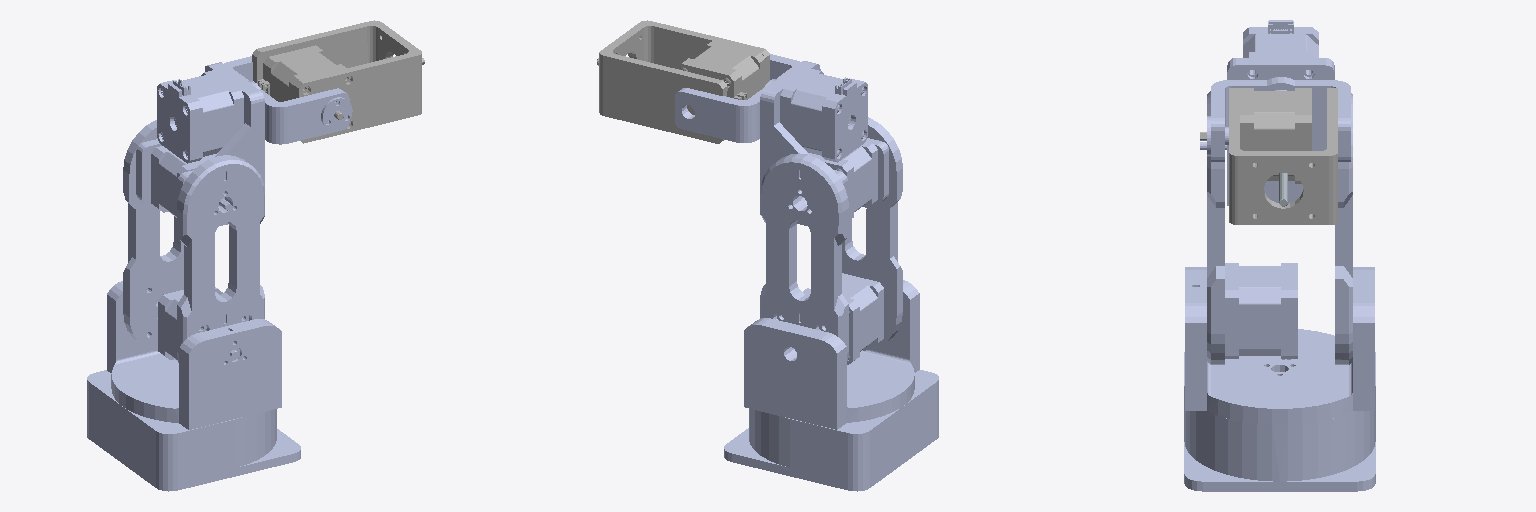
robot.urdf — RobotAssembly:
<?xml version="1.0" encoding="utf-8"?>
<!-- This URDF was automatically created by SolidWorks to URDF Exporter! Originally created by Stephen Brawner (brawner@gmail.com) 
     Commit Version: 1.6.0-4-g7f85cfe  Build Version: 1.6.7995.38578
     For more information, please see http://wiki.ros.org/sw_urdf_exporter -->
<robot
  name="RobotAssembly">
  <link
    name="base_Frame">
    <inertial>
      <origin
        xyz="-0.00392828513304835 -5.27957094589629E-18 0.0197084096565698"
        rpy="0 0 0" />
      <mass
        value="0.398803913878024" />
      <inertia
        ixx="0.000383634062492965"
        ixy="-5.59526705517806E-20"
        ixz="5.15665640521899E-06"
        iyy="0.000377479950170546"
        iyz="-3.26597973458209E-20"
        izz="0.000652663421267234" />
    </inertial>
    <visual>
      <origin
        xyz="0 0 0"
        rpy="0 0 0" />
      <geometry>
        <mesh
          filename="package://RobotAssembly/meshes/base_Frame.STL" />
      </geometry>
      <material
        name="">
        <color
          rgba="0.792156862745098 0.819607843137255 0.933333333333333 1" />
      </material>
    </visual>
    <collision>
      <origin
        xyz="0 0 0"
        rpy="0 0 0" />
      <geometry>
        <mesh
          filename="package://RobotAssembly/meshes/base_Frame.STL" />
      </geometry>
    </collision>
  </link>
  <link
    name="BaseLink">
    <inertial>
      <origin
        xyz="-0.00392828513304835 -5.27957094589629E-18 0.0197084096565698"
        rpy="0 0 0" />
      <mass
        value="0.398803913878024" />
      <inertia
        ixx="0.000383634062492965"
        ixy="-5.54350994038197E-20"
        ixz="5.15665640521899E-06"
        iyy="0.000377479950170546"
        iyz="-3.26192607764251E-20"
        izz="0.000652663421267234" />
    </inertial>
    <visual>
      <origin
        xyz="0 0 0"
        rpy="0 0 0" />
      <geometry>
        <mesh
          filename="package://RobotAssembly/meshes/BaseLink.STL" />
      </geometry>
      <material
        name="">
        <color
          rgba="0.792156862745098 0.819607843137255 0.933333333333333 1" />
      </material>
    </visual>
    <collision>
      <origin
        xyz="0 0 0"
        rpy="0 0 0" />
      <geometry>
        <mesh
          filename="package://RobotAssembly/meshes/BaseLink.STL" />
      </geometry>
    </collision>
  </link>
  <joint
    name="BaseLinkJoint"
    type="fixed">
    <origin
      xyz="0 0 0"
      rpy="0 0 0" />
    <parent
      link="base_Frame" />
    <child
      link="BaseLink" />
    <axis
      xyz="0 0 0" />
  </joint>
  <link
    name="J1_Link">
    <inertial>
      <origin
        xyz="5.19780395945533E-17 -0.00220626005450383 0.0200689923926743"
        rpy="0 0 0" />
      <mass
        value="0.178308396338367" />
      <inertia
        ixx="0.000290696734206688"
        ixy="-5.58317885264175E-11"
        ixz="4.54620357960477E-20"
        iyy="0.000146889533548349"
        iyz="-3.34224178976832E-07"
        izz="0.000331186535139949" />
    </inertial>
    <visual>
      <origin
        xyz="0 0 0"
        rpy="0 0 0" />
      <geometry>
        <mesh
          filename="package://RobotAssembly/meshes/J1_Link.STL" />
      </geometry>
      <material
        name="">
        <color
          rgba="0.792156862745098 0.819607843137255 0.933333333333333 1" />
      </material>
    </visual>
    <collision>
      <origin
        xyz="0 0 0"
        rpy="0 0 0" />
      <geometry>
        <mesh
          filename="package://RobotAssembly/meshes/J1_Link.STL" />
      </geometry>
    </collision>
  </link>
  <joint
    name="J1"
    type="revolute">
    <origin
      xyz="0 0 0.04"
      rpy="0 0 0" />
    <parent
      link="BaseLink" />
    <child
      link="J1_Link" />
    <axis
      xyz="0 0 -1" />
    <limit
      lower="-6.2856"
      upper="6.2856"
      effort="0"
      velocity="0" />
  </joint>
  <link
    name="J2_Link">
    <inertial>
      <origin
        xyz="0.0341625857117514 4.81563057101389E-08 -0.00348814488795987"
        rpy="0 0 0" />
      <mass
        value="0.20493853476852" />
      <inertia
        ixx="5.25009121788374E-05"
        ixy="-2.51992987676672E-11"
        ixz="1.05086162925748E-08"
        iyy="0.000293309909415094"
        iyz="3.0817287744597E-10"
        izz="0.000339163519667511" />
    </inertial>
    <visual>
      <origin
        xyz="0 0 0"
        rpy="0 0 0" />
      <geometry>
        <mesh
          filename="package://RobotAssembly/meshes/J2_Link.STL" />
      </geometry>
      <material
        name="">
        <color
          rgba="0.792156862745098 0.819607843137255 0.933333333333333 1" />
      </material>
    </visual>
    <collision>
      <origin
        xyz="0 0 0"
        rpy="0 0 0" />
      <geometry>
        <mesh
          filename="package://RobotAssembly/meshes/J2_Link.STL" />
      </geometry>
    </collision>
  </link>
  <joint
    name="J2"
    type="revolute">
    <origin
      xyz="0 0 0.0450235133971798"
      rpy="1.5707963267949 -1.57001254680866 -3.14159265358979" />
    <parent
      link="J1_Link" />
    <child
      link="J2_Link" />
    <axis
      xyz="0 0 1" />
    <limit
      lower="-6.2856"
      upper="6.2856"
      effort="0"
      velocity="0" />
  </joint>
  <link
    name="J3_Link">
    <inertial>
      <origin
        xyz="0.0085983743704942 -0.0192799171048054 -0.0351458907841485"
        rpy="0 0 0" />
      <mass
        value="0.211104401938319" />
      <inertia
        ixx="0.00010201352545001"
        ixy="9.23339515566093E-06"
        ixz="1.28811604797203E-06"
        iyy="7.66727826172985E-05"
        iyz="-9.60803527585616E-07"
        izz="8.84124778948434E-05" />
    </inertial>
    <visual>
      <origin
        xyz="0 0 0"
        rpy="0 0 0" />
      <geometry>
        <mesh
          filename="package://RobotAssembly/meshes/J3_Link.STL" />
      </geometry>
      <material
        name="">
        <color
          rgba="0.792156862745098 0.819607843137255 0.933333333333333 1" />
      </material>
    </visual>
    <collision>
      <origin
        xyz="0 0 0"
        rpy="0 0 0" />
      <geometry>
        <mesh
          filename="package://RobotAssembly/meshes/J3_Link.STL" />
      </geometry>
    </collision>
  </link>
  <joint
    name="J3"
    type="revolute">
    <origin
      xyz="0.0999764866100428 0 0.035"
      rpy="0 0 1.57158010678112" />
    <parent
      link="J2_Link" />
    <child
      link="J3_Link" />
    <axis
      xyz="0 0 1" />
    <limit
      lower="-6.2856"
      upper="6.2856"
      effort="0"
      velocity="0" />
  </joint>
  <link
    name="J4_Link">
    <inertial>
      <origin
        xyz="8.35079161376484E-07 -0.00676193137349457 0.0181683173855942"
        rpy="0 0 0" />
      <mass
        value="0.0521282135415929" />
      <inertia
        ixx="3.7593062578374E-05"
        ixy="1.5052840427318E-09"
        ixz="-1.19434860111226E-09"
        iyy="1.15235892953846E-05"
        iyz="-7.13691998393439E-08"
        izz="3.0795899659119E-05" />
    </inertial>
    <visual>
      <origin
        xyz="0 0 0"
        rpy="0 0 0" />
      <geometry>
        <mesh
          filename="package://RobotAssembly/meshes/J4_Link.STL" />
      </geometry>
      <material
        name="">
        <color
          rgba="0.792156862745098 0.819607843137255 0.933333333333333 1" />
      </material>
    </visual>
    <collision>
      <origin
        xyz="0 0 0"
        rpy="0 0 0" />
      <geometry>
        <mesh
          filename="package://RobotAssembly/meshes/J4_Link.STL" />
      </geometry>
    </collision>
  </link>
  <joint
    name="J4"
    type="revolute">
    <origin
      xyz="0.0399655013979157 -0.0440313376813969 -0.0344999999999999"
      rpy="1.5707963267949 0 1.57001254680867" />
    <parent
      link="J3_Link" />
    <child
      link="J4_Link" />
    <axis
      xyz="0 0 -1" />
    <limit
      lower="-6.2856"
      upper="6.2856"
      effort="0"
      velocity="0" />
  </joint>
  <link
    name="J5_Link">
    <inertial>
      <origin
        xyz="3.94129173741931E-15 -0.0258816481211883 -0.0341794222651043"
        rpy="0 0 0" />
      <mass
        value="0.189700976705942" />
      <inertia
        ixx="0.000100351816110413"
        ixy="-2.82973578130243E-10"
        ixz="2.82973578769169E-10"
        iyy="7.16468415501826E-05"
        iyz="-2.54245342930596E-06"
        izz="8.16276490016628E-05" />
    </inertial>
    <visual>
      <origin
        xyz="0 0 0"
        rpy="0 0 0" />
      <geometry>
        <mesh
          filename="package://RobotAssembly/meshes/J5_Link.STL" />
      </geometry>
      <material
        name="">
        <color
          rgba="0.752941176470588 0.752941176470588 0.752941176470588 1" />
      </material>
    </visual>
    <collision>
      <origin
        xyz="0 0 0"
        rpy="0 0 0" />
      <geometry>
        <mesh
          filename="package://RobotAssembly/meshes/J5_Link.STL" />
      </geometry>
    </collision>
  </link>
  <joint
    name="J5"
    type="revolute">
    <origin
      xyz="0 0.0345 0.0419999999999999"
      rpy="-1.5707963267949 0 0" />
    <parent
      link="J4_Link" />
    <child
      link="J5_Link" />
    <axis
      xyz="0 0 1" />
    <limit
      lower="-6.2856"
      upper="6.2856"
      effort="0"
      velocity="0" />
  </joint>
  <link
    name="J6_Link">
    <inertial>
      <origin
        xyz="2.10273537232242E-06 -4.65350489550461E-06 -0.0298923940103484"
        rpy="0 0 0" />
      <mass
        value="0.00114582999188719" />
      <inertia
        ixx="3.32285500557153E-07"
        ixy="-2.54807966119436E-11"
        ixz="3.07683493859108E-10"
        iyy="3.32330377628855E-07"
        iyz="-6.80925742643999E-10"
        izz="3.54273266881593E-09" />
    </inertial>
    <visual>
      <origin
        xyz="0 0 0"
        rpy="0 0 0" />
      <geometry>
        <mesh
          filename="package://RobotAssembly/meshes/J6_Link.STL" />
      </geometry>
      <material
        name="">
        <color
          rgba="0.737254901960784 0.776470588235294 0.8 1" />
      </material>
    </visual>
    <collision>
      <origin
        xyz="0 0 0"
        rpy="0 0 0" />
      <geometry>
        <mesh
          filename="package://RobotAssembly/meshes/J6_Link.STL" />
      </geometry>
    </collision>
  </link>
  <joint
    name="J6"
    type="revolute">
    <origin
      xyz="-1.4128E-05 -0.087 -0.032969"
      rpy="1.5708 0 0" />
    <parent
      link="J5_Link" />
    <child
      link="J6_Link" />
    <axis
      xyz="0 0 -1" />
    <limit
      lower="-6.2856"
      upper="6.2856"
      effort="0"
      velocity="0" />
  </joint>
</robot>

--- Render facts (derived) ---
Views: 3 orthographic renders of the robot side by side, from view 1: azimuth 30°, elevation 25°; view 2: azimuth 150°, elevation 25°; view 3: azimuth 270°, elevation 25°.
Model RobotAssembly with 8 links and 7 joints (6 revolute, 1 fixed), rooted at base_Frame, posed every joint at zero.
Links seen in each view (by area): view 1: J2_Link, J1_Link, base_Frame, J5_Link, J3_Link, J4_Link; view 2: J2_Link, J1_Link, J5_Link, base_Frame, J3_Link, J4_Link; view 3: J1_Link, J2_Link, base_Frame, J5_Link, J3_Link, J4_Link.
Boxes of the visible links, x1,y1,x2,y2 form: J2_Link: [123, 120, 264, 362]; J1_Link: [107, 281, 281, 429]; base_Frame: [87, 370, 300, 491]; J5_Link: [252, 20, 421, 143]; J3_Link: [136, 62, 264, 225]; J4_Link: [224, 56, 352, 144]; J2_Link: [760, 117, 902, 364]; J1_Link: [744, 280, 919, 429]; J5_Link: [599, 20, 769, 143]; base_Frame: [724, 370, 938, 491]; J3_Link: [760, 61, 888, 225]; J4_Link: [675, 54, 800, 142]; J1_Link: [1185, 267, 1374, 424]; J2_Link: [1207, 91, 1352, 364]; base_Frame: [1184, 352, 1375, 491]; J5_Link: [1200, 88, 1337, 224]; J3_Link: [1200, 20, 1334, 205]; J4_Link: [1207, 77, 1350, 161].
Size in the robot's own frame: 0.2214 by 0.105 by 0.2555 metres.
Meshes: 8 distinct files referenced, 7 mesh visuals loaded (7 binary STL); not drawn: 1 (reference not matched to a file when rendering).
